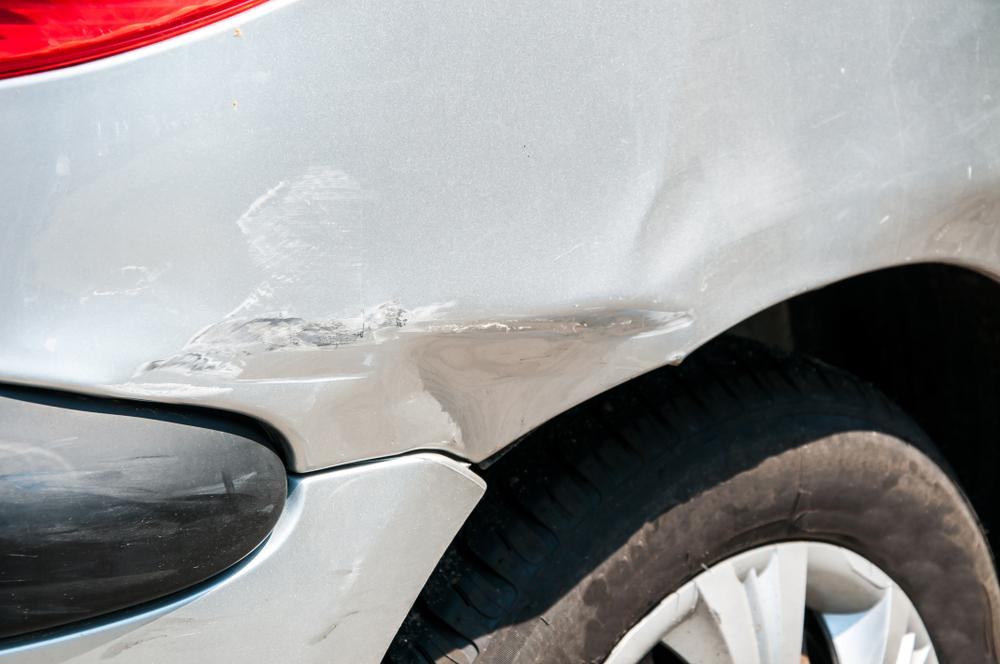dent: (403, 170, 728, 459)
scratch: (122, 161, 408, 401)
